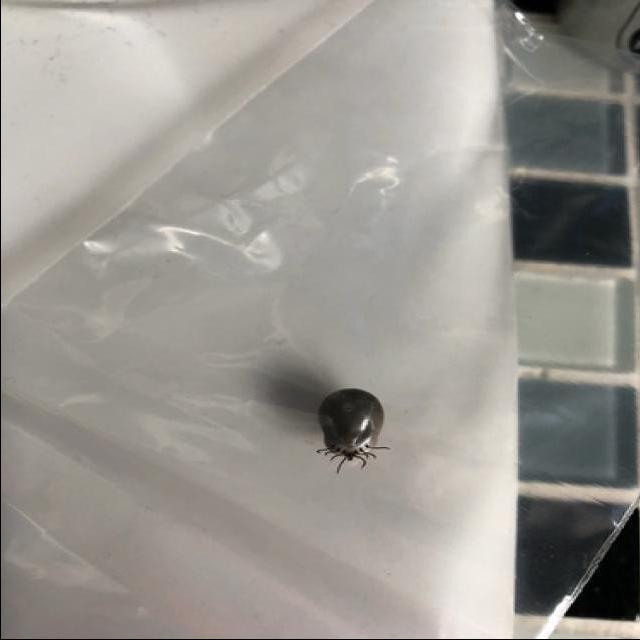Ixodes Ricinus-F-Fed: (314, 388, 393, 476)
